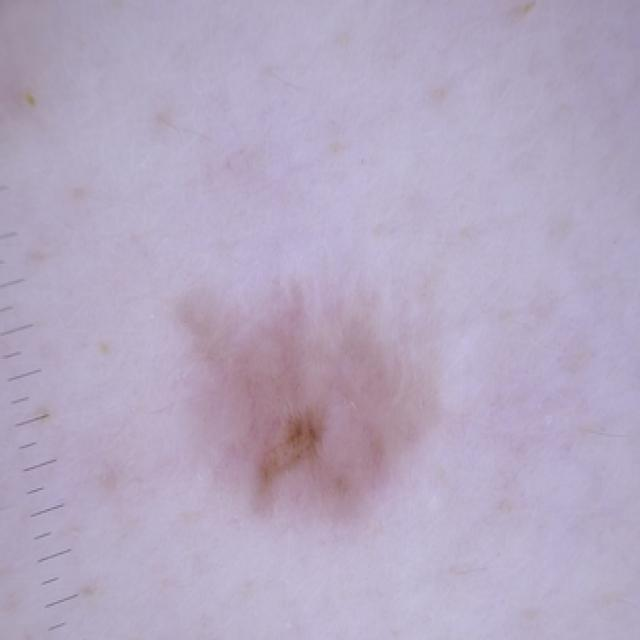Carcinoma: (186, 258, 450, 560)
